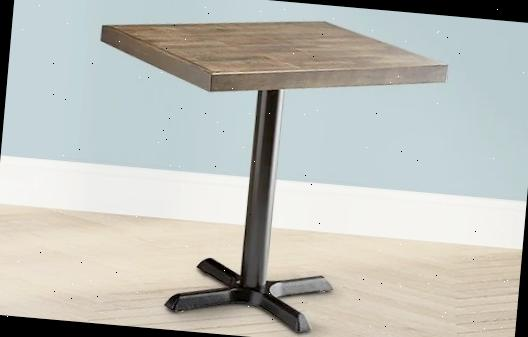Clean Table: (1, 0, 528, 182)
